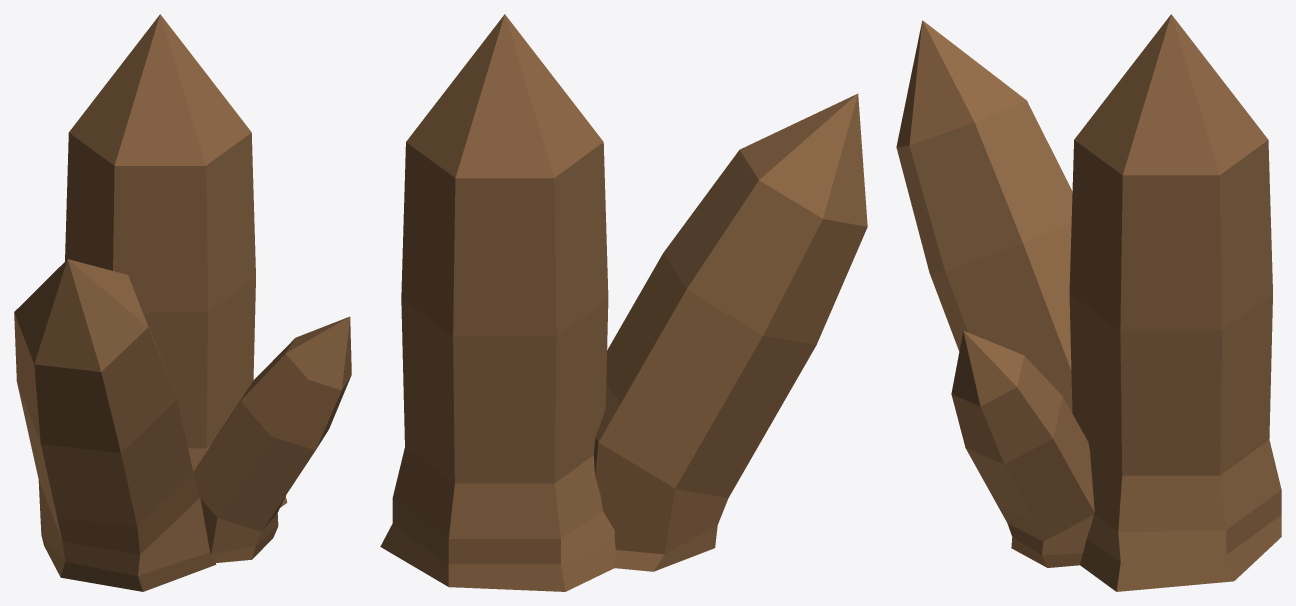
The model's file is Rock_15_Light_Brown.fbx.
The picture shows the model from 3 angles, left to right: view 1: azimuth 30°, elevation 25°; view 2: azimuth 150°, elevation 25°; view 3: azimuth 270°, elevation 25°; orthographic projection. The views are drawn at different scales.
Visible parts, largest first — view 1: Rock_15_Light_Brown_Part_1, Rock_15_Light_Brown_Part_2, Rock_15_Light_Brown_Part_3; view 2: Rock_15_Light_Brown_Part_1, Rock_15_Light_Brown_Part_2; view 3: Rock_15_Light_Brown_Part_1, Rock_15_Light_Brown_Part_2, Rock_15_Light_Brown_Part_3.
Part boxes in pixels (x1,y1,x2,y2): Rock_15_Light_Brown_Part_1: (65, 14, 287, 507); Rock_15_Light_Brown_Part_2: (14, 259, 216, 591); Rock_15_Light_Brown_Part_3: (193, 316, 351, 562); Rock_15_Light_Brown_Part_1: (380, 14, 615, 591); Rock_15_Light_Brown_Part_2: (594, 93, 867, 571); Rock_15_Light_Brown_Part_1: (1069, 14, 1281, 591); Rock_15_Light_Brown_Part_2: (896, 20, 1072, 412); Rock_15_Light_Brown_Part_3: (951, 331, 1094, 567).
Bounding box in the file's own units: 185 × 263 × 175.
